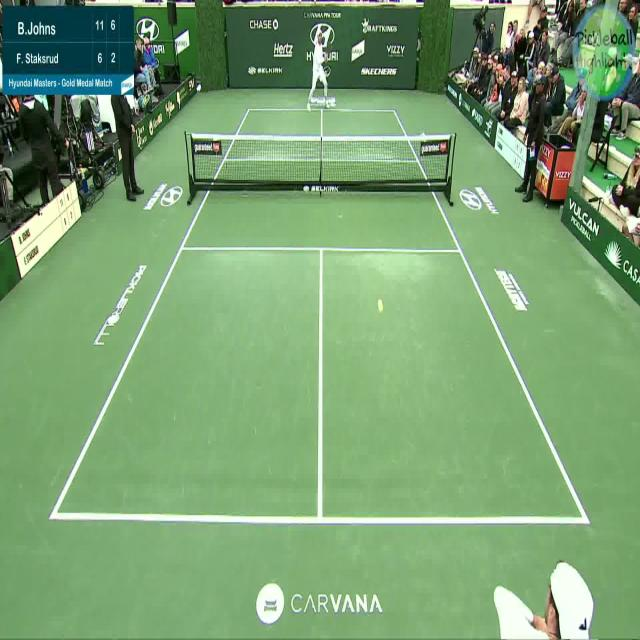Court: (52, 110, 587, 521)
ball: (375, 294, 387, 317)
